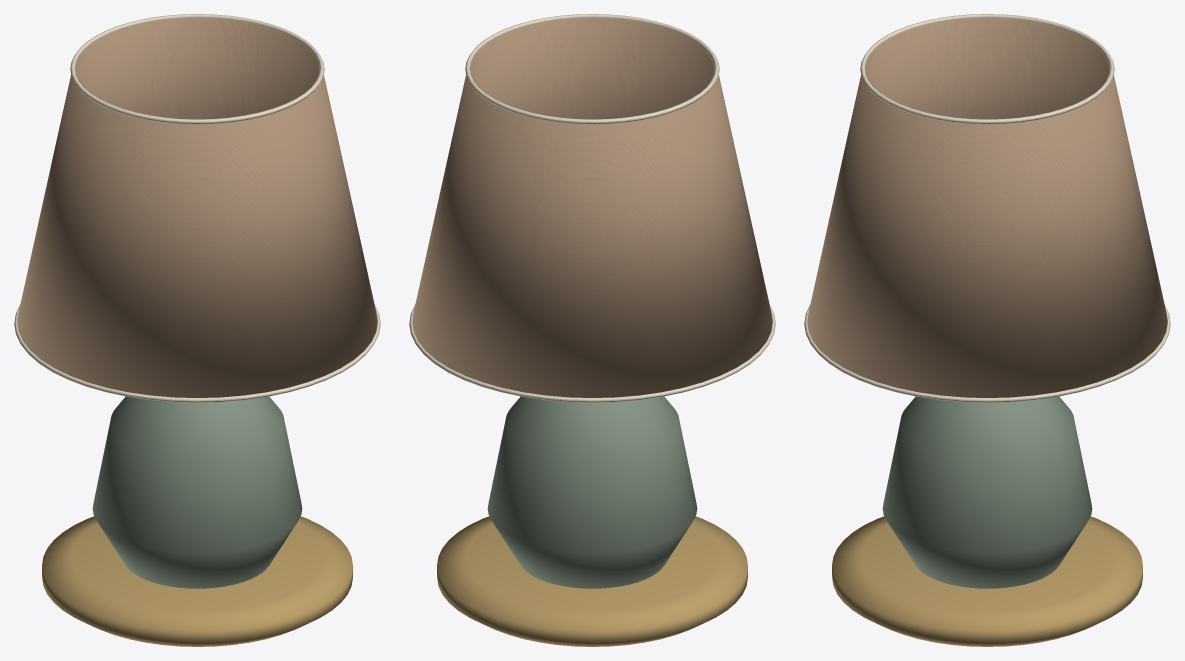
The model's file is country.table_lamp.gltf.
3 views of the same model, side by side, from view 1: azimuth 30°, elevation 25°; view 2: azimuth 150°, elevation 25°; view 3: azimuth 270°, elevation 25° (orthographic).
Parts seen in each view (by area): view 1: country.table_lamp.foot; view 2: country.table_lamp.foot; view 3: country.table_lamp.foot.
Part boxes in pixels (bbox=[...]): country.table_lamp.foot: bbox=[14, 14, 380, 646]; country.table_lamp.foot: bbox=[409, 14, 775, 646]; country.table_lamp.foot: bbox=[804, 14, 1170, 646].
Size of the model in its own units: 0.294 by 0.4617 by 0.294.
Materials: 5 (1 with a texture image).
